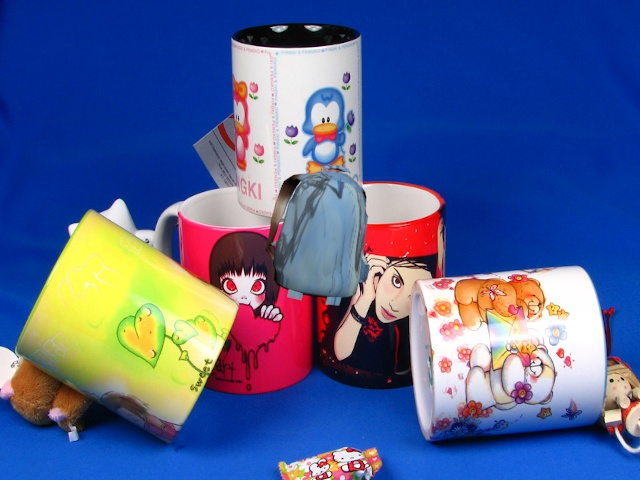back_pack: (257, 160, 384, 320)
